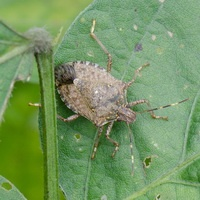insect: (55, 19, 149, 134)
